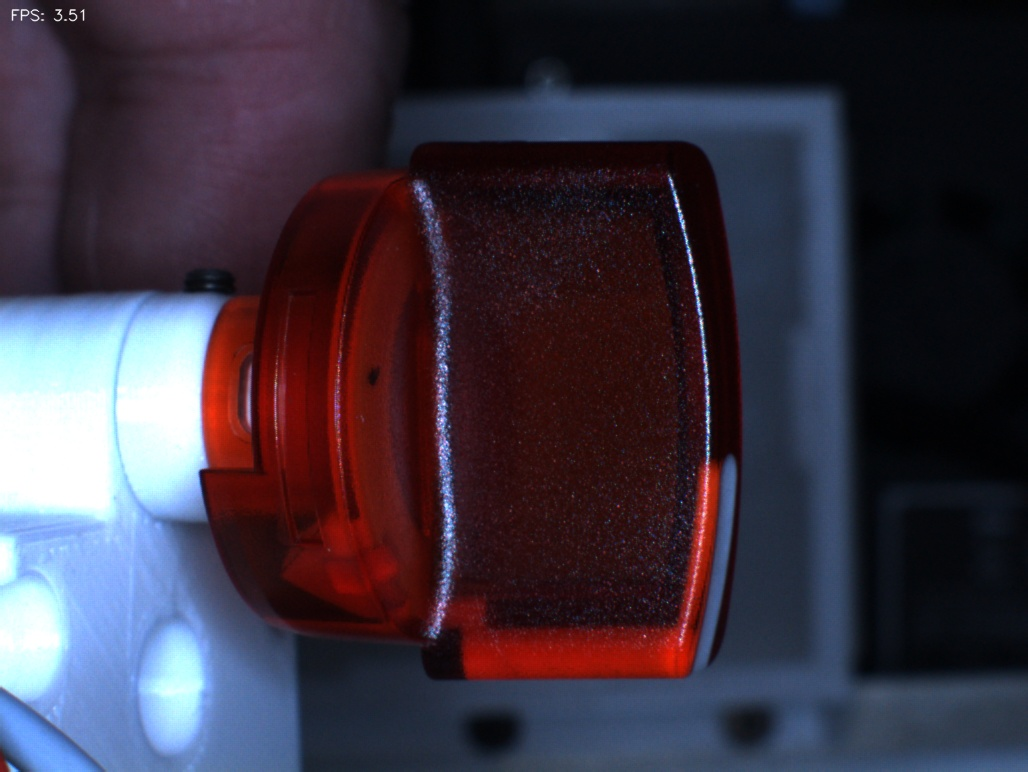PointNoir: (335, 321, 421, 422)
